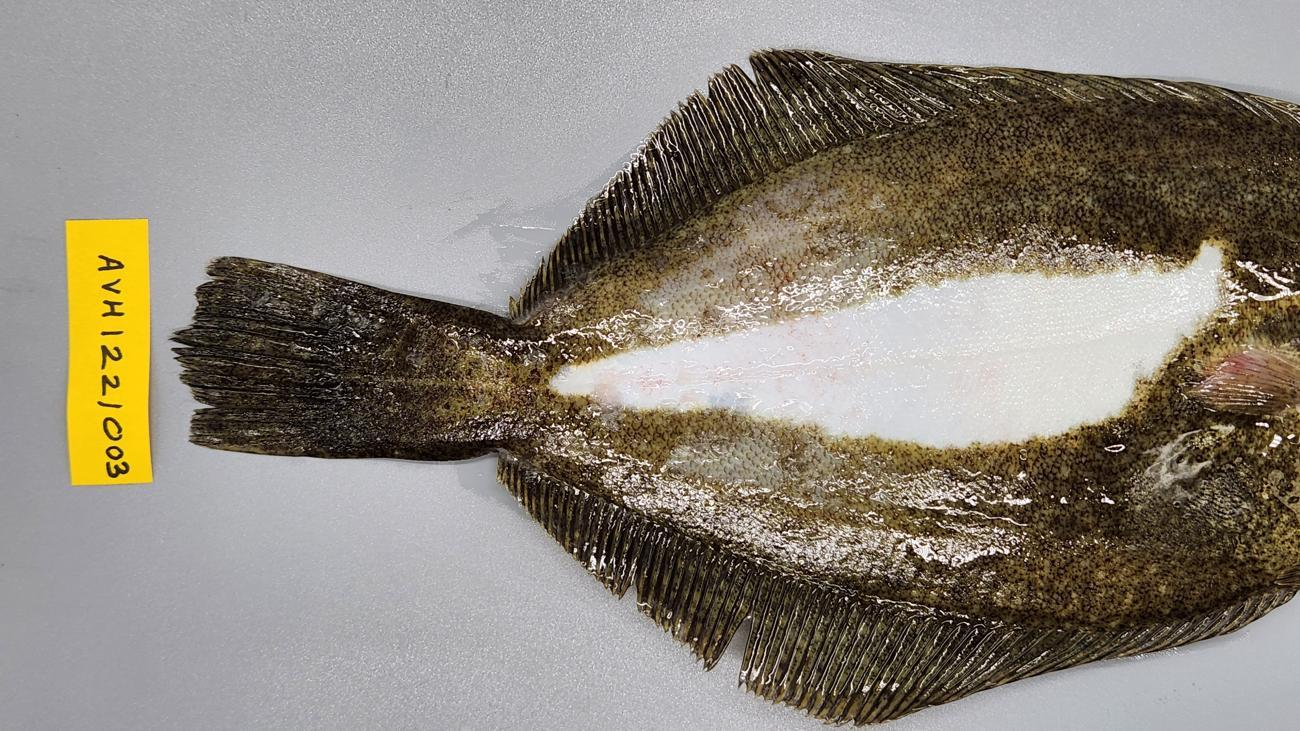VIDYH: (445, 369, 623, 443), (1181, 335, 1297, 443), (769, 331, 880, 435), (750, 250, 823, 325), (944, 338, 1012, 411), (606, 366, 670, 392), (701, 360, 750, 385)
VIFCH: (196, 255, 323, 325)
